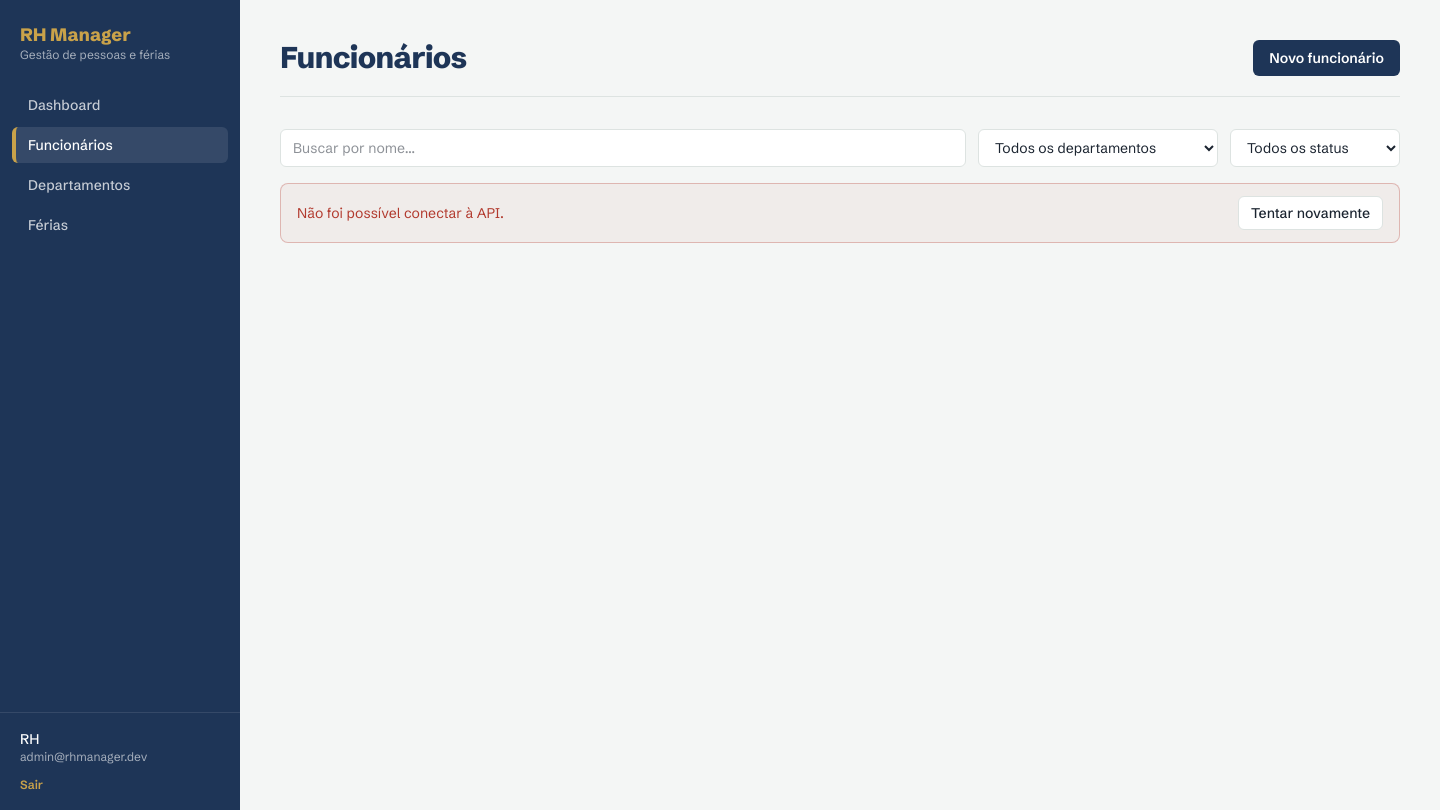
Scenario: EmployeesPage › shows an error state with retry when the API fails
The width and height of the screenshot is (1440, 810).
expect the text "Não foi possível conectar à API." is shown: met, box x1=297 y1=203 x2=504 y2=223
Click the button "Tentar novamente".
click(1310, 213)  # box x1=1238 y1=196 x2=1383 y2=230
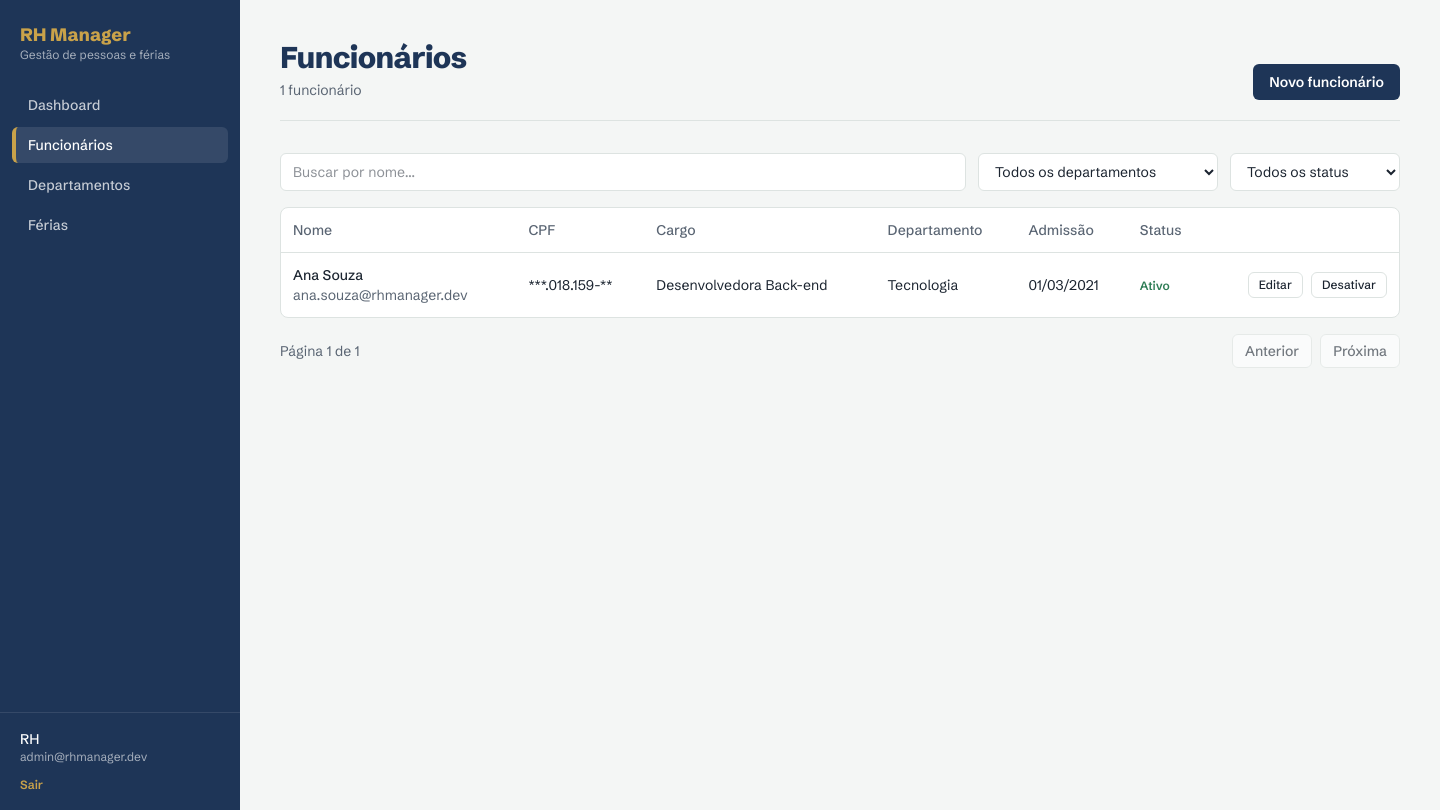
expect the text "Ana Souza" is shown: met, box x1=293 y1=266 x2=363 y2=284
